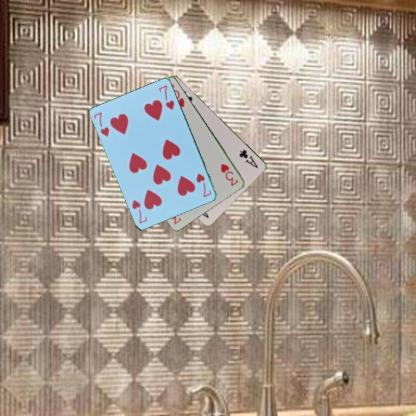3h: (218, 161, 240, 187)
7h: (92, 110, 110, 138), (194, 171, 212, 198)
Ac: (236, 147, 260, 169)
